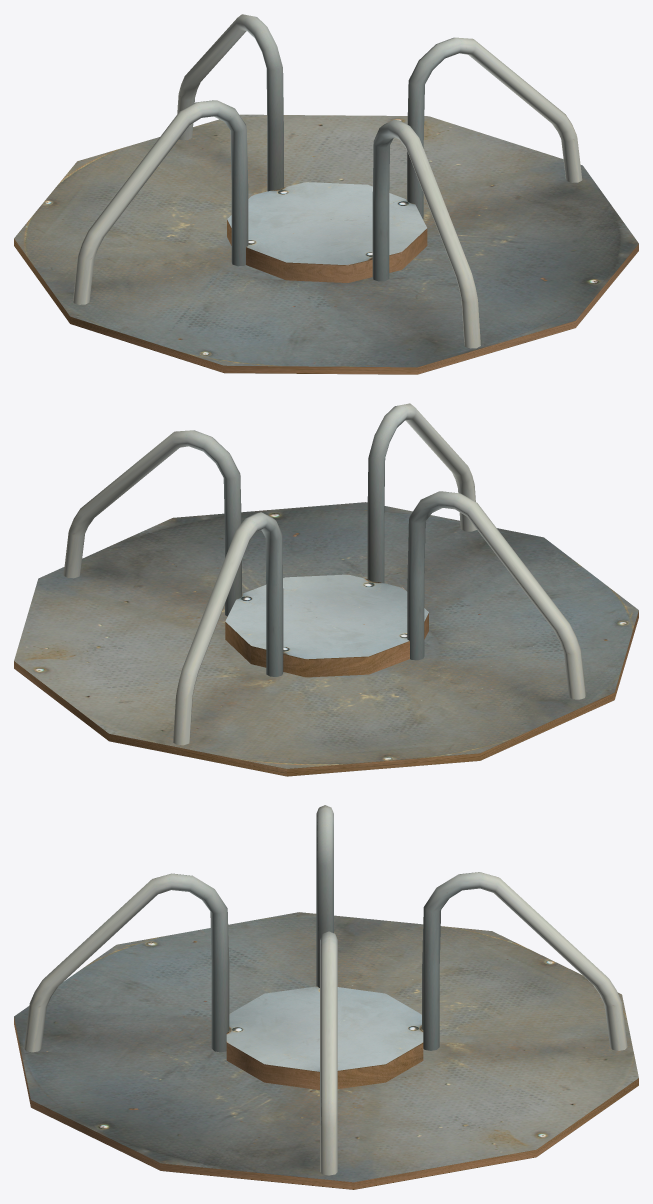
The model's file is krutil_lod.FBX.
3 views of the same model, one above another, from view 1: azimuth 30°, elevation 25°; view 2: azimuth 150°, elevation 25°; view 3: azimuth 270°, elevation 25° (orthographic). The views are drawn at different scales.
Visible parts, largest first — view 1: Cylinder008; view 2: Cylinder008; view 3: Cylinder008.
Part boxes in pixels (bbox=[...]): Cylinder008: bbox=[14, 14, 638, 374]; Cylinder008: bbox=[14, 403, 638, 776]; Cylinder008: bbox=[14, 805, 638, 1189].
Size of the model in its own units: 39.19 by 12.35 by 38.31.
